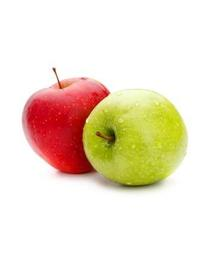apple: (82, 89, 188, 187), (20, 67, 109, 173)
